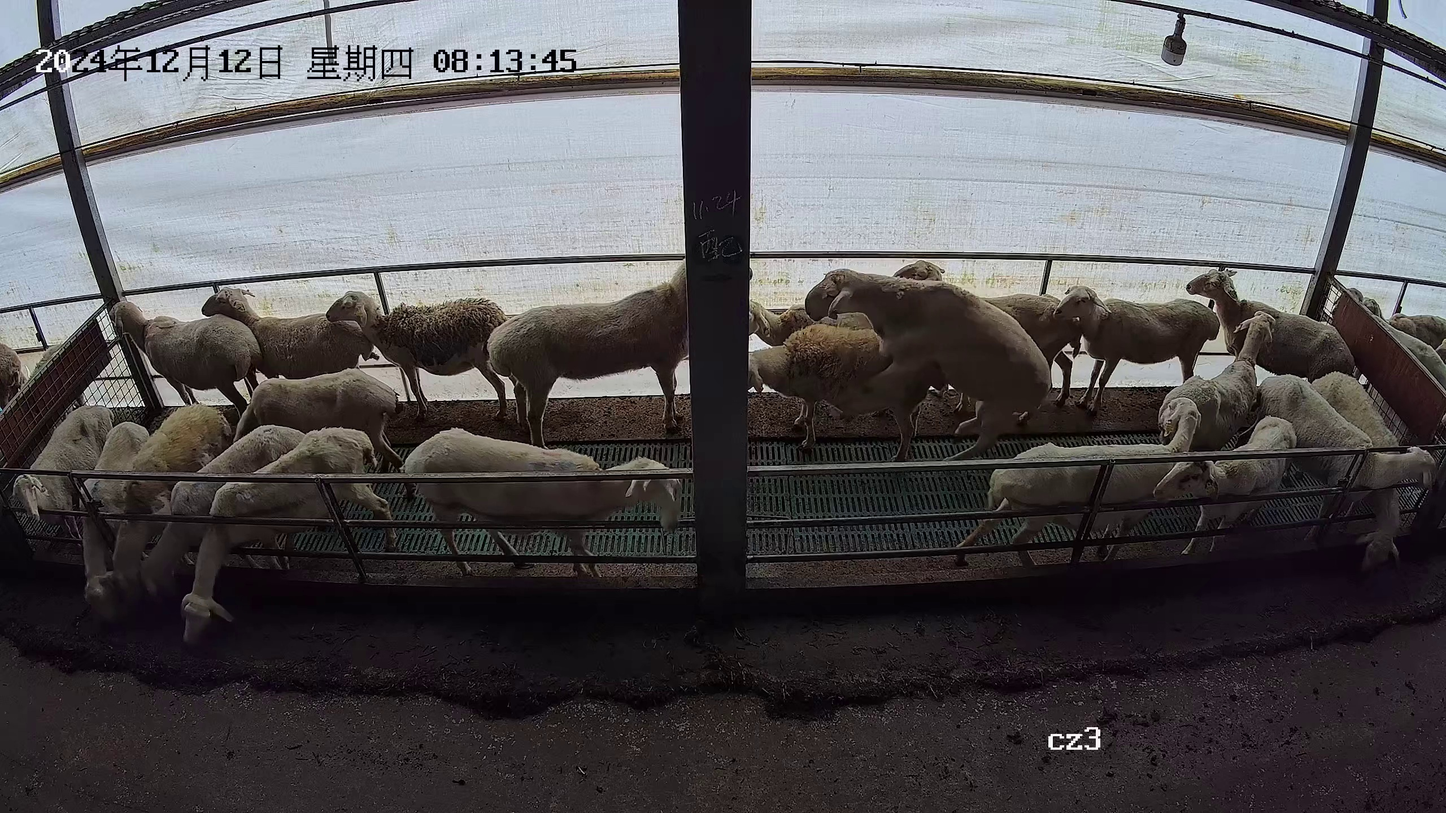Smounting: (742, 267, 1051, 463)
mounted: (747, 318, 947, 459)
